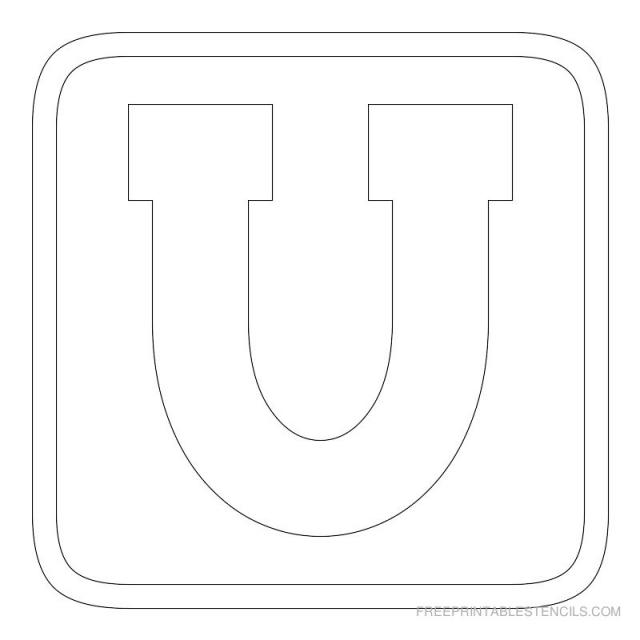U: (118, 80, 543, 569)
